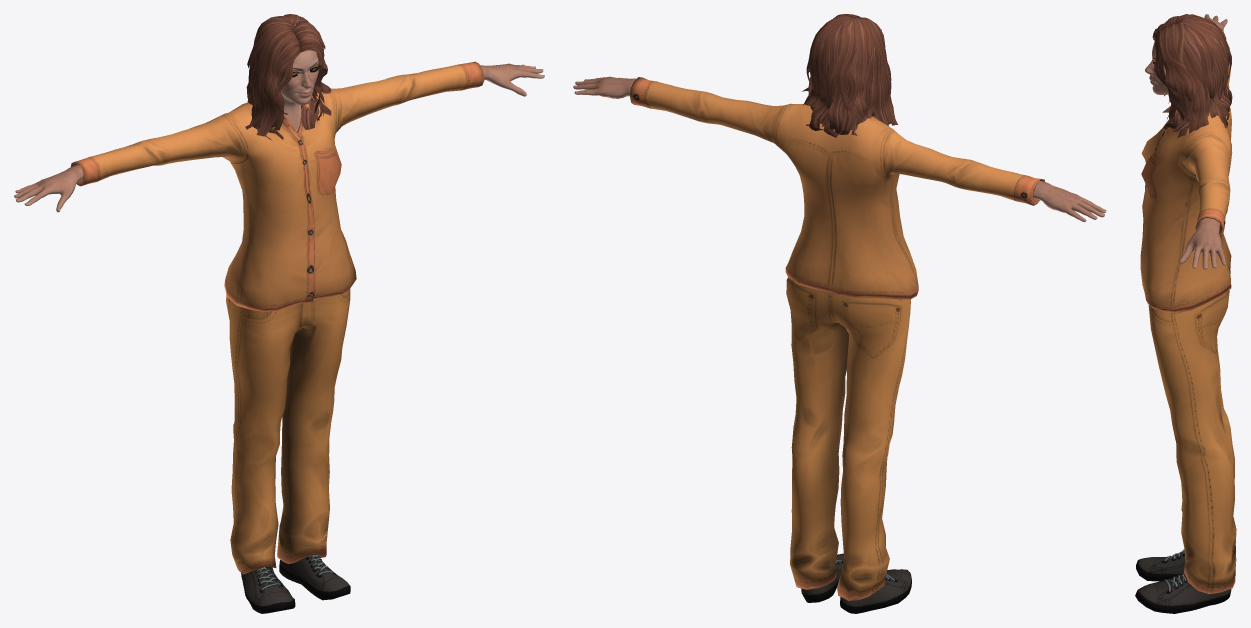
The model's file is ClassD4.obj.
3 views of the same model, side by side, from view 1: azimuth 30°, elevation 25°; view 2: azimuth 150°, elevation 25°; view 3: azimuth 270°, elevation 25° (orthographic).
Visible parts, largest first — view 1: Tops, Bottoms, Hair, Body, Shoes; view 2: Bottoms, Tops, Hair, Body, Shoes; view 3: Bottoms, Tops, Hair, Shoes, Body.
Part boxes in pixels (left/top/right/bottom): Tops: left=71, top=61, right=484, bottom=311; Bottoms: left=226, top=289, right=350, bottom=574; Hair: left=245, top=14, right=331, bottom=140; Body: left=14, top=50, right=544, bottom=212; Shoes: left=241, top=554, right=350, bottom=613; Bottoms: left=786, top=277, right=910, bottom=600; Tops: left=629, top=77, right=1044, bottom=299; Hair: left=802, top=14, right=897, bottom=137; Body: left=573, top=76, right=1106, bottom=221; Shoes: left=801, top=553, right=911, bottom=613; Bottoms: left=1148, top=270, right=1236, bottom=594; Tops: left=1140, top=27, right=1232, bottom=312; Hair: left=1152, top=14, right=1232, bottom=138; Shoes: left=1135, top=549, right=1231, bottom=613; Body: left=1145, top=14, right=1227, bottom=269.
Bounding box in the file's own units: 167 × 175 × 27.85.
5 materials, 5 textured.
